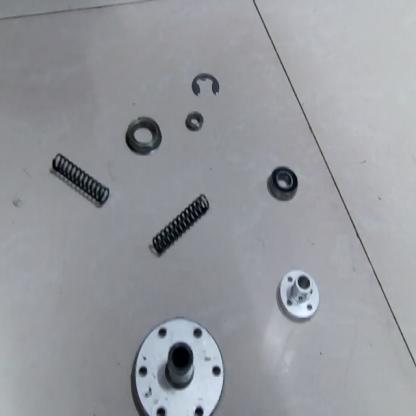FOD: (129, 310, 227, 415), (144, 189, 211, 258), (49, 150, 115, 209), (275, 266, 322, 324), (124, 113, 162, 157), (263, 162, 300, 202), (190, 72, 223, 98), (181, 109, 206, 135)
